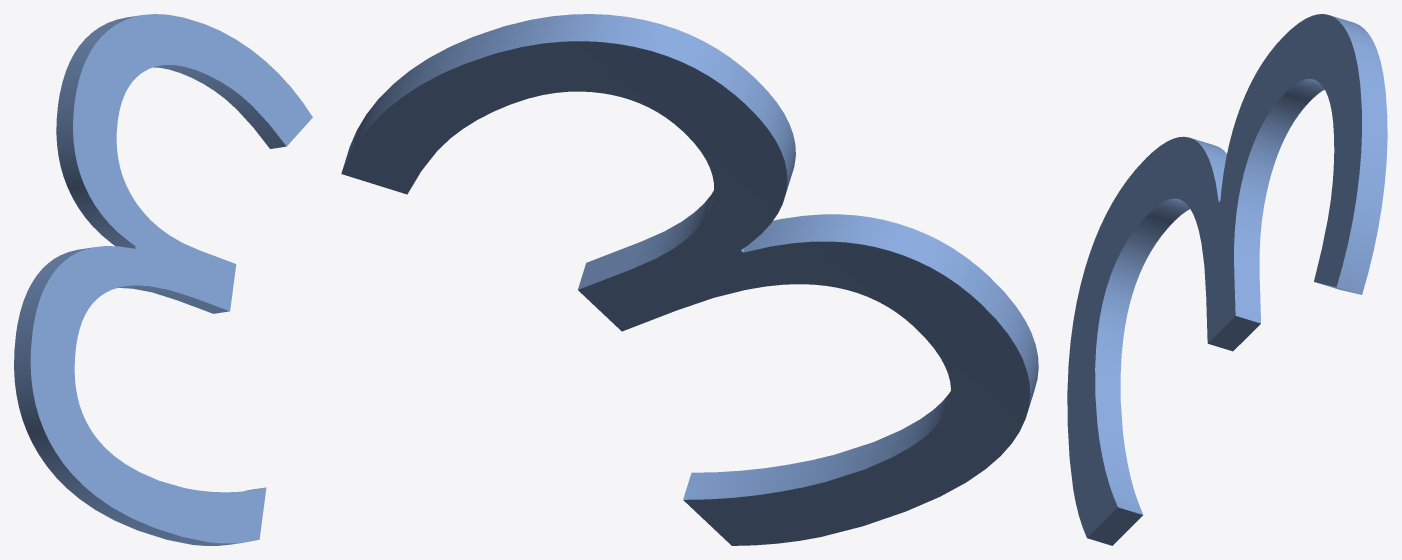
Rendered from New_Number_3.gltf.
The picture shows the model from 3 angles, left to right: view 1: azimuth 30°, elevation 25°; view 2: azimuth 150°, elevation 25°; view 3: azimuth 270°, elevation 25°; orthographic projection. The views are drawn at different scales.
Parts seen in each view (by area): view 1: Part 534; view 2: Part 534; view 3: Part 534.
Boxes of the visible parts, bbox=[...] form: Part 534: bbox=[14, 14, 312, 545]; Part 534: bbox=[341, 14, 1038, 545]; Part 534: bbox=[1067, 14, 1387, 545].
Bounding box in the file's own units: 0.00441 × 0.00494 × 0.00281.
